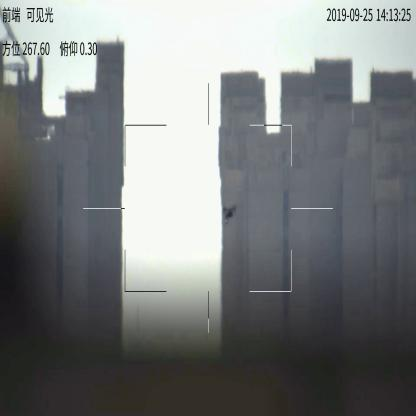uav: (222, 202, 236, 225)
